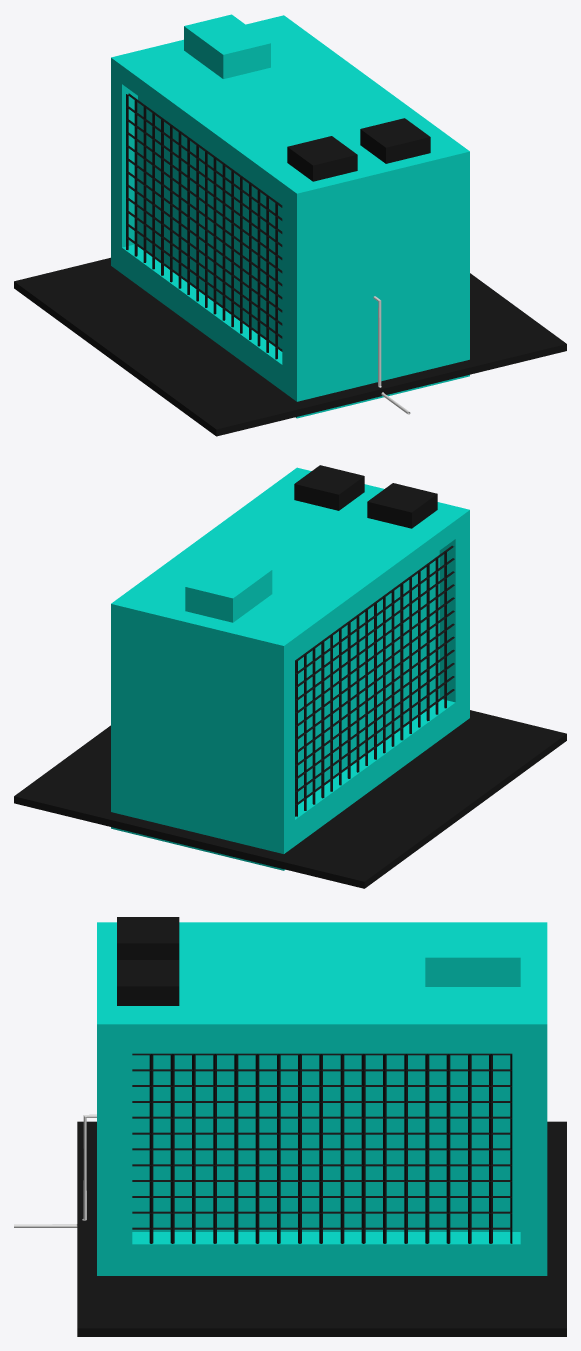
The model's file is steamGenerator.fbx.
3 views of the same model, one above another, from view 1: azimuth 30°, elevation 25°; view 2: azimuth 150°, elevation 25°; view 3: azimuth 270°, elevation 25° (orthographic). The views are drawn at different scales.
Parts seen in each view (by area): view 1: Cube.001, Cube, Plane.001, Cube.002, Cube.003; view 2: Cube.001, Cube, Plane.001, Cube.002, Cube.003; view 3: Cube.001, Cube, Plane, Cube.003, Cube.002, Cube.004.
Part boxes in pixels (<box>): Cube.001: <box>111,14,469,418</box>; Cube: <box>14,257,566,436</box>; Plane.001: <box>126,93,282,359</box>; Cube.002: <box>287,136,357,181</box>; Cube.003: <box>360,118,430,163</box>; Cube.001: <box>111,467,469,870</box>; Cube: <box>14,710,566,888</box>; Plane.001: <box>295,545,454,816</box>; Cube.002: <box>367,483,437,528</box>; Cube.003: <box>294,465,364,510</box>; Cube.001: <box>97,922,547,1275</box>; Cube: <box>77,1121,566,1336</box>; Plane: <box>132,1053,512,1243</box>; Cube.003: <box>117,960,179,1005</box>; Cube.002: <box>117,917,179,959</box>; Cube.004: <box>14,1114,96,1227</box>.
Bounding box in the file's own units: 1248 × 848 × 1410.
